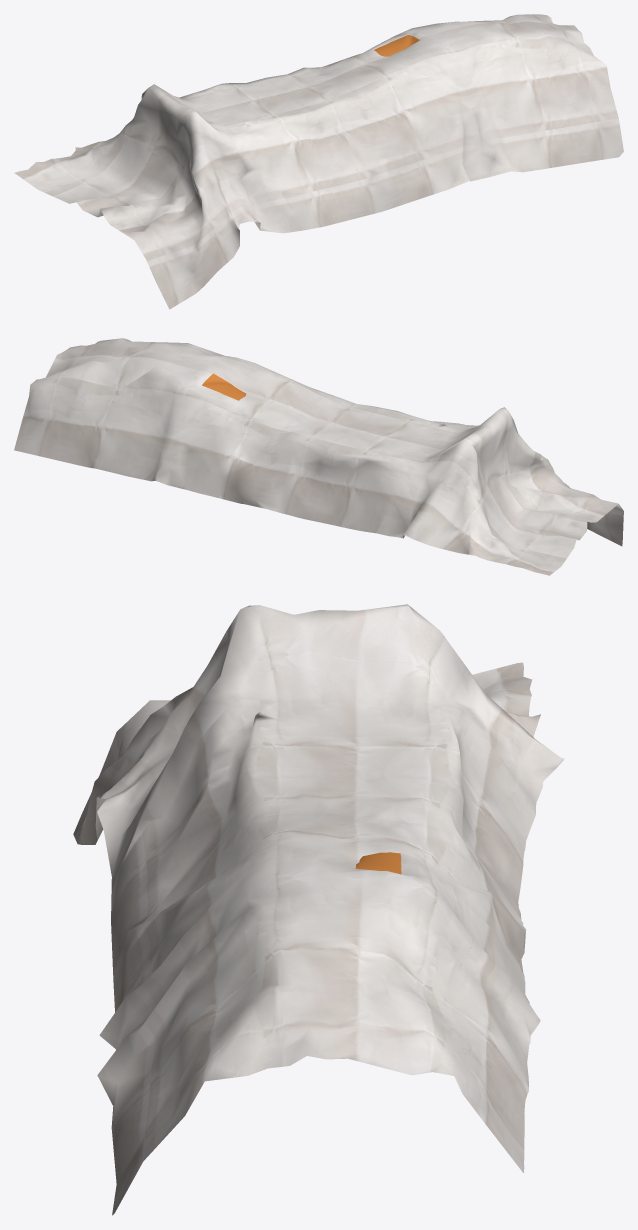
File: ChampPatient_Peau_V3.FBX
The picture shows the model from 3 angles, top to bottom: view 1: azimuth 30°, elevation 25°; view 2: azimuth 150°, elevation 25°; view 3: azimuth 270°, elevation 25°; orthographic projection. The views are drawn at different scales.
Parts seen in each view (by area): view 1: PapierSterilePatient, Peau008; view 2: PapierSterilePatient, Peau008; view 3: PapierSterilePatient.
Boxes of the visible parts, x1,y1,x2,y2 form: PapierSterilePatient: (14, 14, 623, 309); Peau008: (374, 35, 419, 56); PapierSterilePatient: (14, 338, 623, 575); Peau008: (202, 373, 245, 400); PapierSterilePatient: (73, 604, 564, 1215).
Bounding box in the file's own units: 205 × 56.66 × 84.61.
